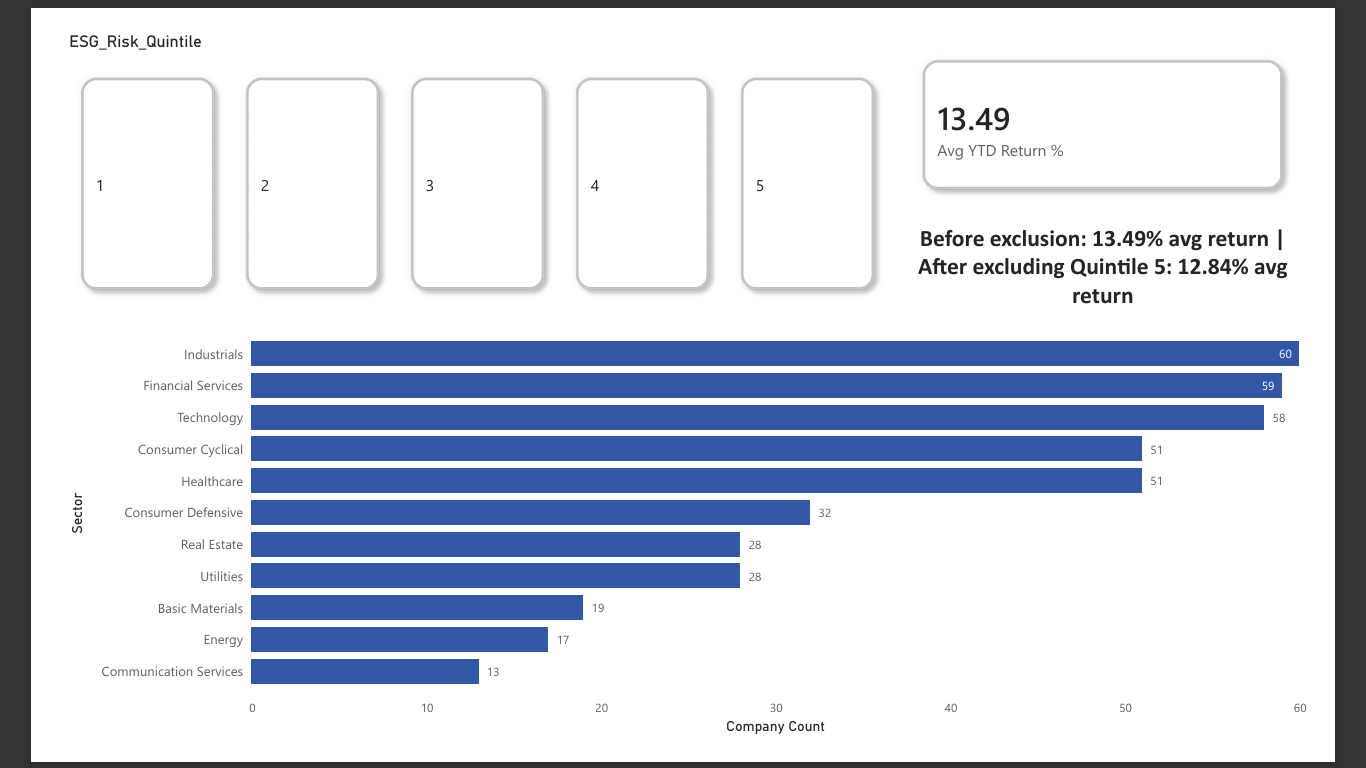

The page's visual inventory and layout, read from the dashboard file:
{"tool":"powerbi","page":{"name":"Exclusion Impact Simulator","canvas":[1280,720],"ordinal":2},"visuals":[{"type":"advancedSlicerVisual","fields":{"Values":["esg_returns_joined.ESG_Risk_Quintile"]},"box":[10,0,845,280],"z":0},{"type":"barChart","fields":{"Category":["esg_returns_joined.Sector"],"Y":["esg_returns_joined.Company Count"]},"box":[10,290,1270,430],"z":1000},{"type":"cardVisual","title":"Portfolio AVG Return","fields":{"Data":["esg_returns_joined.Avg YTD Return %"]},"box":[855,0,425,190],"z":2000},{"type":"textbox","box":[855,190,425,100],"z":3000}]}

Visuals, with their boxes in screenshot pixels (x1, y1, x2, y2), scaled from the page's 1280x720 canvas onto the 1366x768 screenshot:
advancedSlicerVisual - esg_returns_joined.ESG_Risk_Quintile: rect(11, 0, 912, 299)
barChart - esg_returns_joined.Sector x esg_returns_joined.Company Count: rect(11, 309, 1365, 767)
"Portfolio AVG Return" cardVisual: rect(912, 0, 1365, 203)
textbox: rect(912, 203, 1365, 309)
